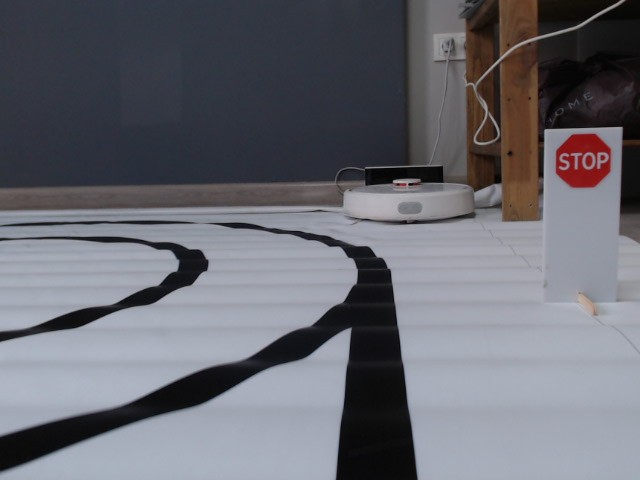Stop: (554, 132, 612, 190)
